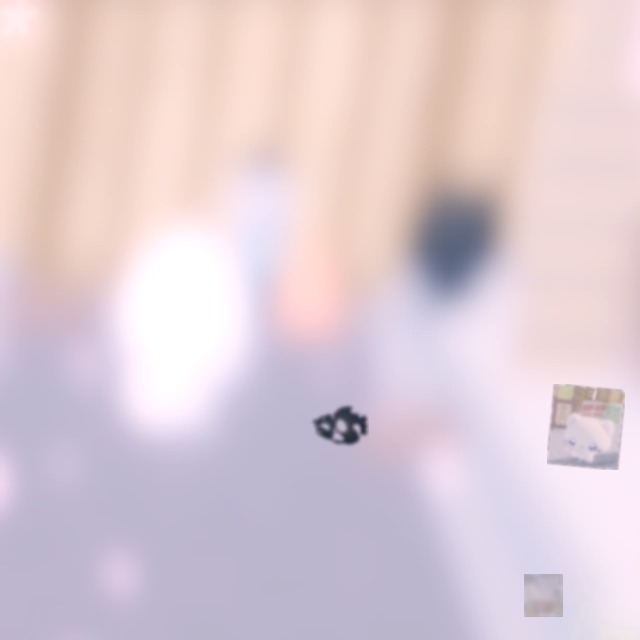urso_branco: (547, 384, 625, 470), (524, 574, 563, 617)
urso_preto: (308, 401, 369, 450)
